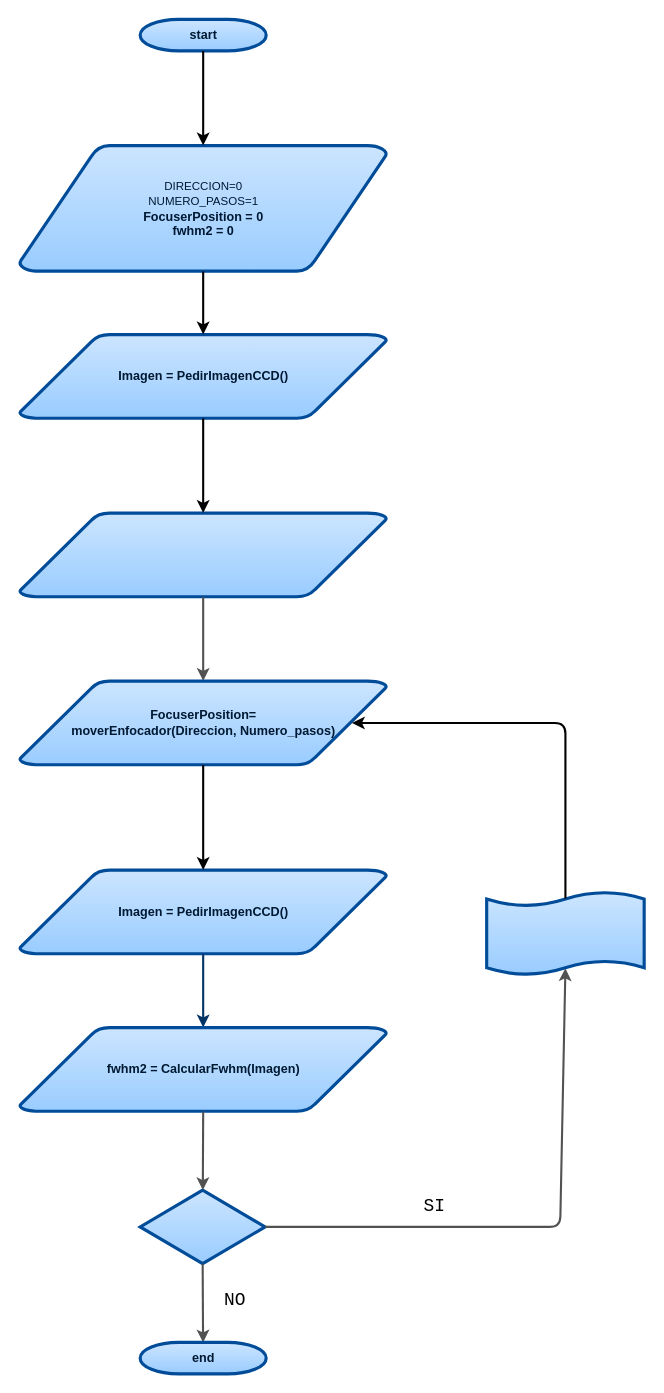
Image size: 664x1393. Some labels were removed from this diagram. Here are the shapes that lost their labels. From the top down, the centre of each, then its label:
At point 202,554: "fwhm1 = CalcularFwhm(Imagen)".
At point 565,933: "fwhm1=fwhm2".
At point 202,1226: "fwhm2<fwhm1".
